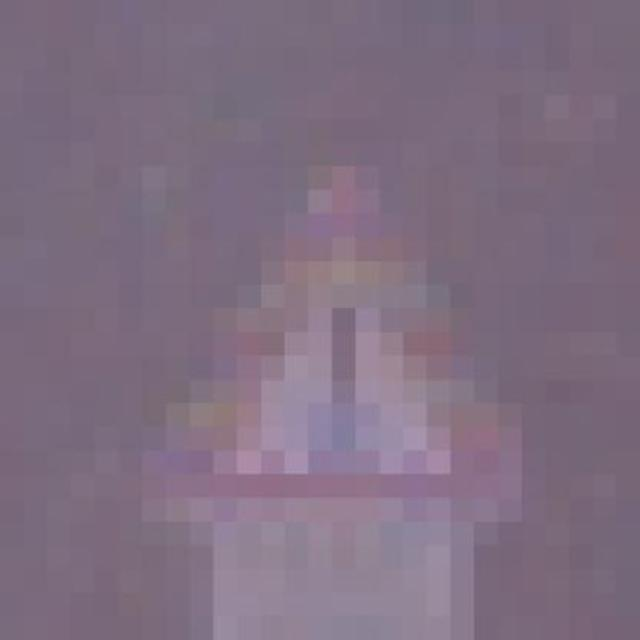Attention Please-: (94, 118, 546, 545)
